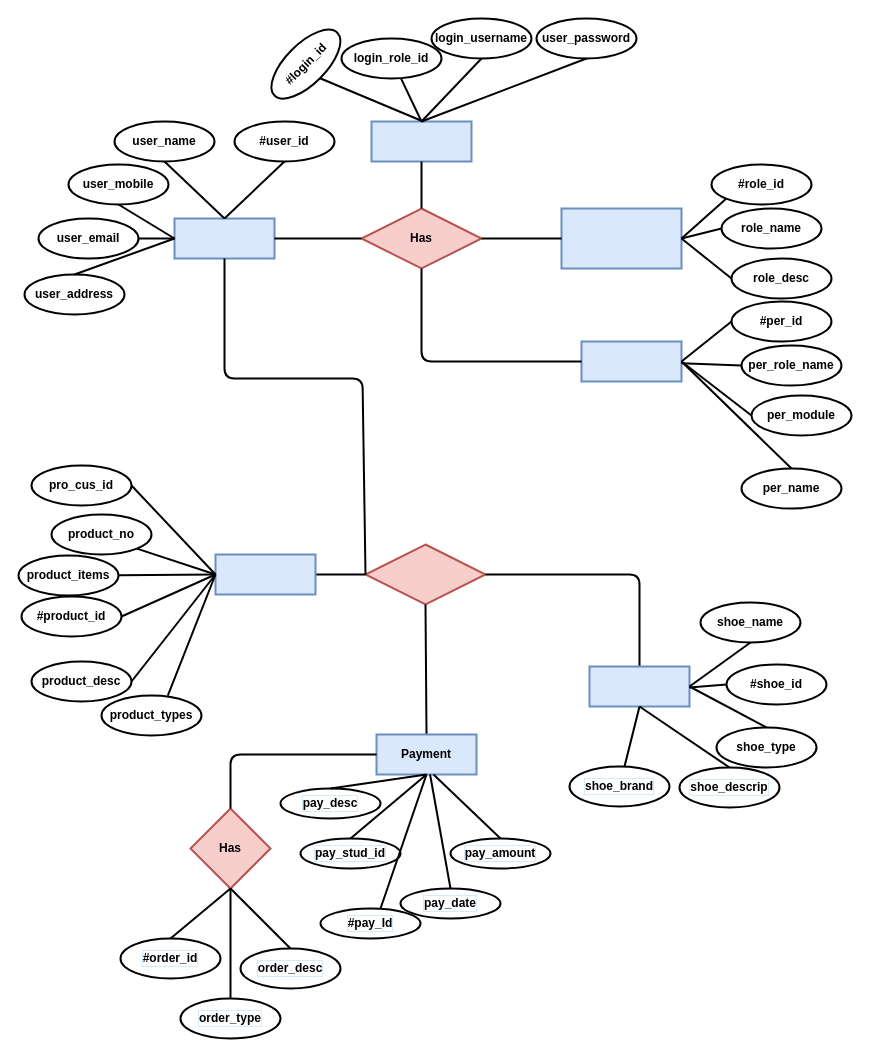
Image size: 869x1057. Some labels were removed from this diagram. Here are the shapes that lost their labels. From the top down, the box of each, then its label:
(370, 120, 472, 162): Login
(173, 217, 275, 259): User
(560, 207, 682, 269): Roles
(580, 340, 682, 382): Permission
(214, 553, 316, 595): Product
(364, 543, 486, 605): Manage
(588, 665, 690, 707): shoes
